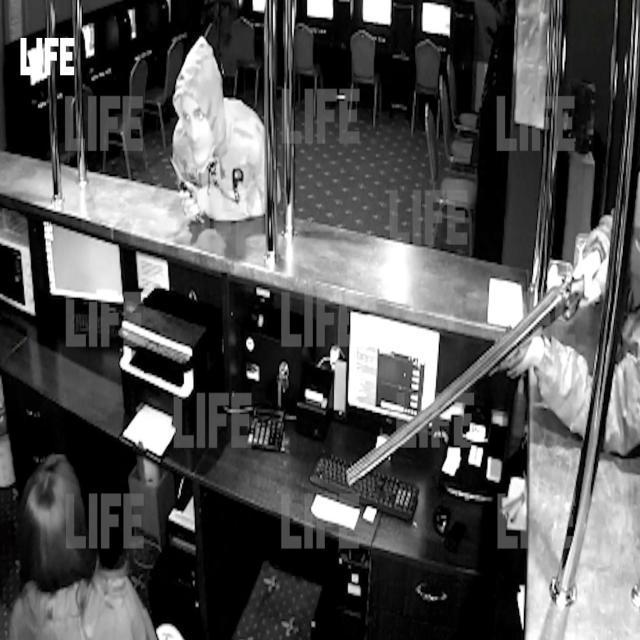pistol: (344, 270, 596, 500)
